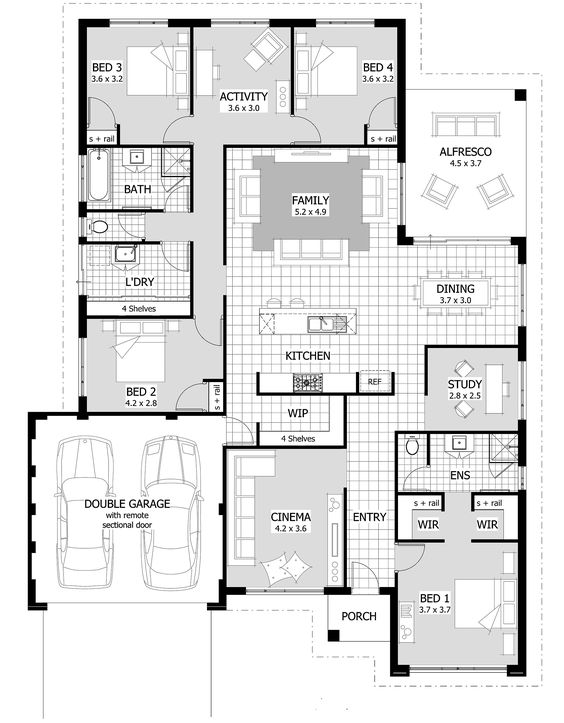door: (297, 114, 326, 144), (160, 247, 191, 275), (398, 542, 427, 571), (173, 383, 202, 411), (159, 117, 188, 144), (85, 95, 114, 122), (350, 560, 378, 585), (116, 213, 144, 238), (369, 96, 397, 121), (226, 420, 254, 445), (193, 324, 221, 349), (400, 467, 424, 492)
room: (219, 142, 410, 398), (389, 537, 527, 684), (220, 445, 351, 597), (75, 18, 196, 150), (75, 313, 227, 418), (288, 16, 405, 148), (187, 17, 295, 123), (72, 239, 197, 320), (423, 343, 528, 435), (72, 142, 197, 215), (394, 491, 529, 542), (426, 430, 527, 498), (253, 389, 350, 449), (72, 206, 152, 244), (392, 426, 431, 499)
